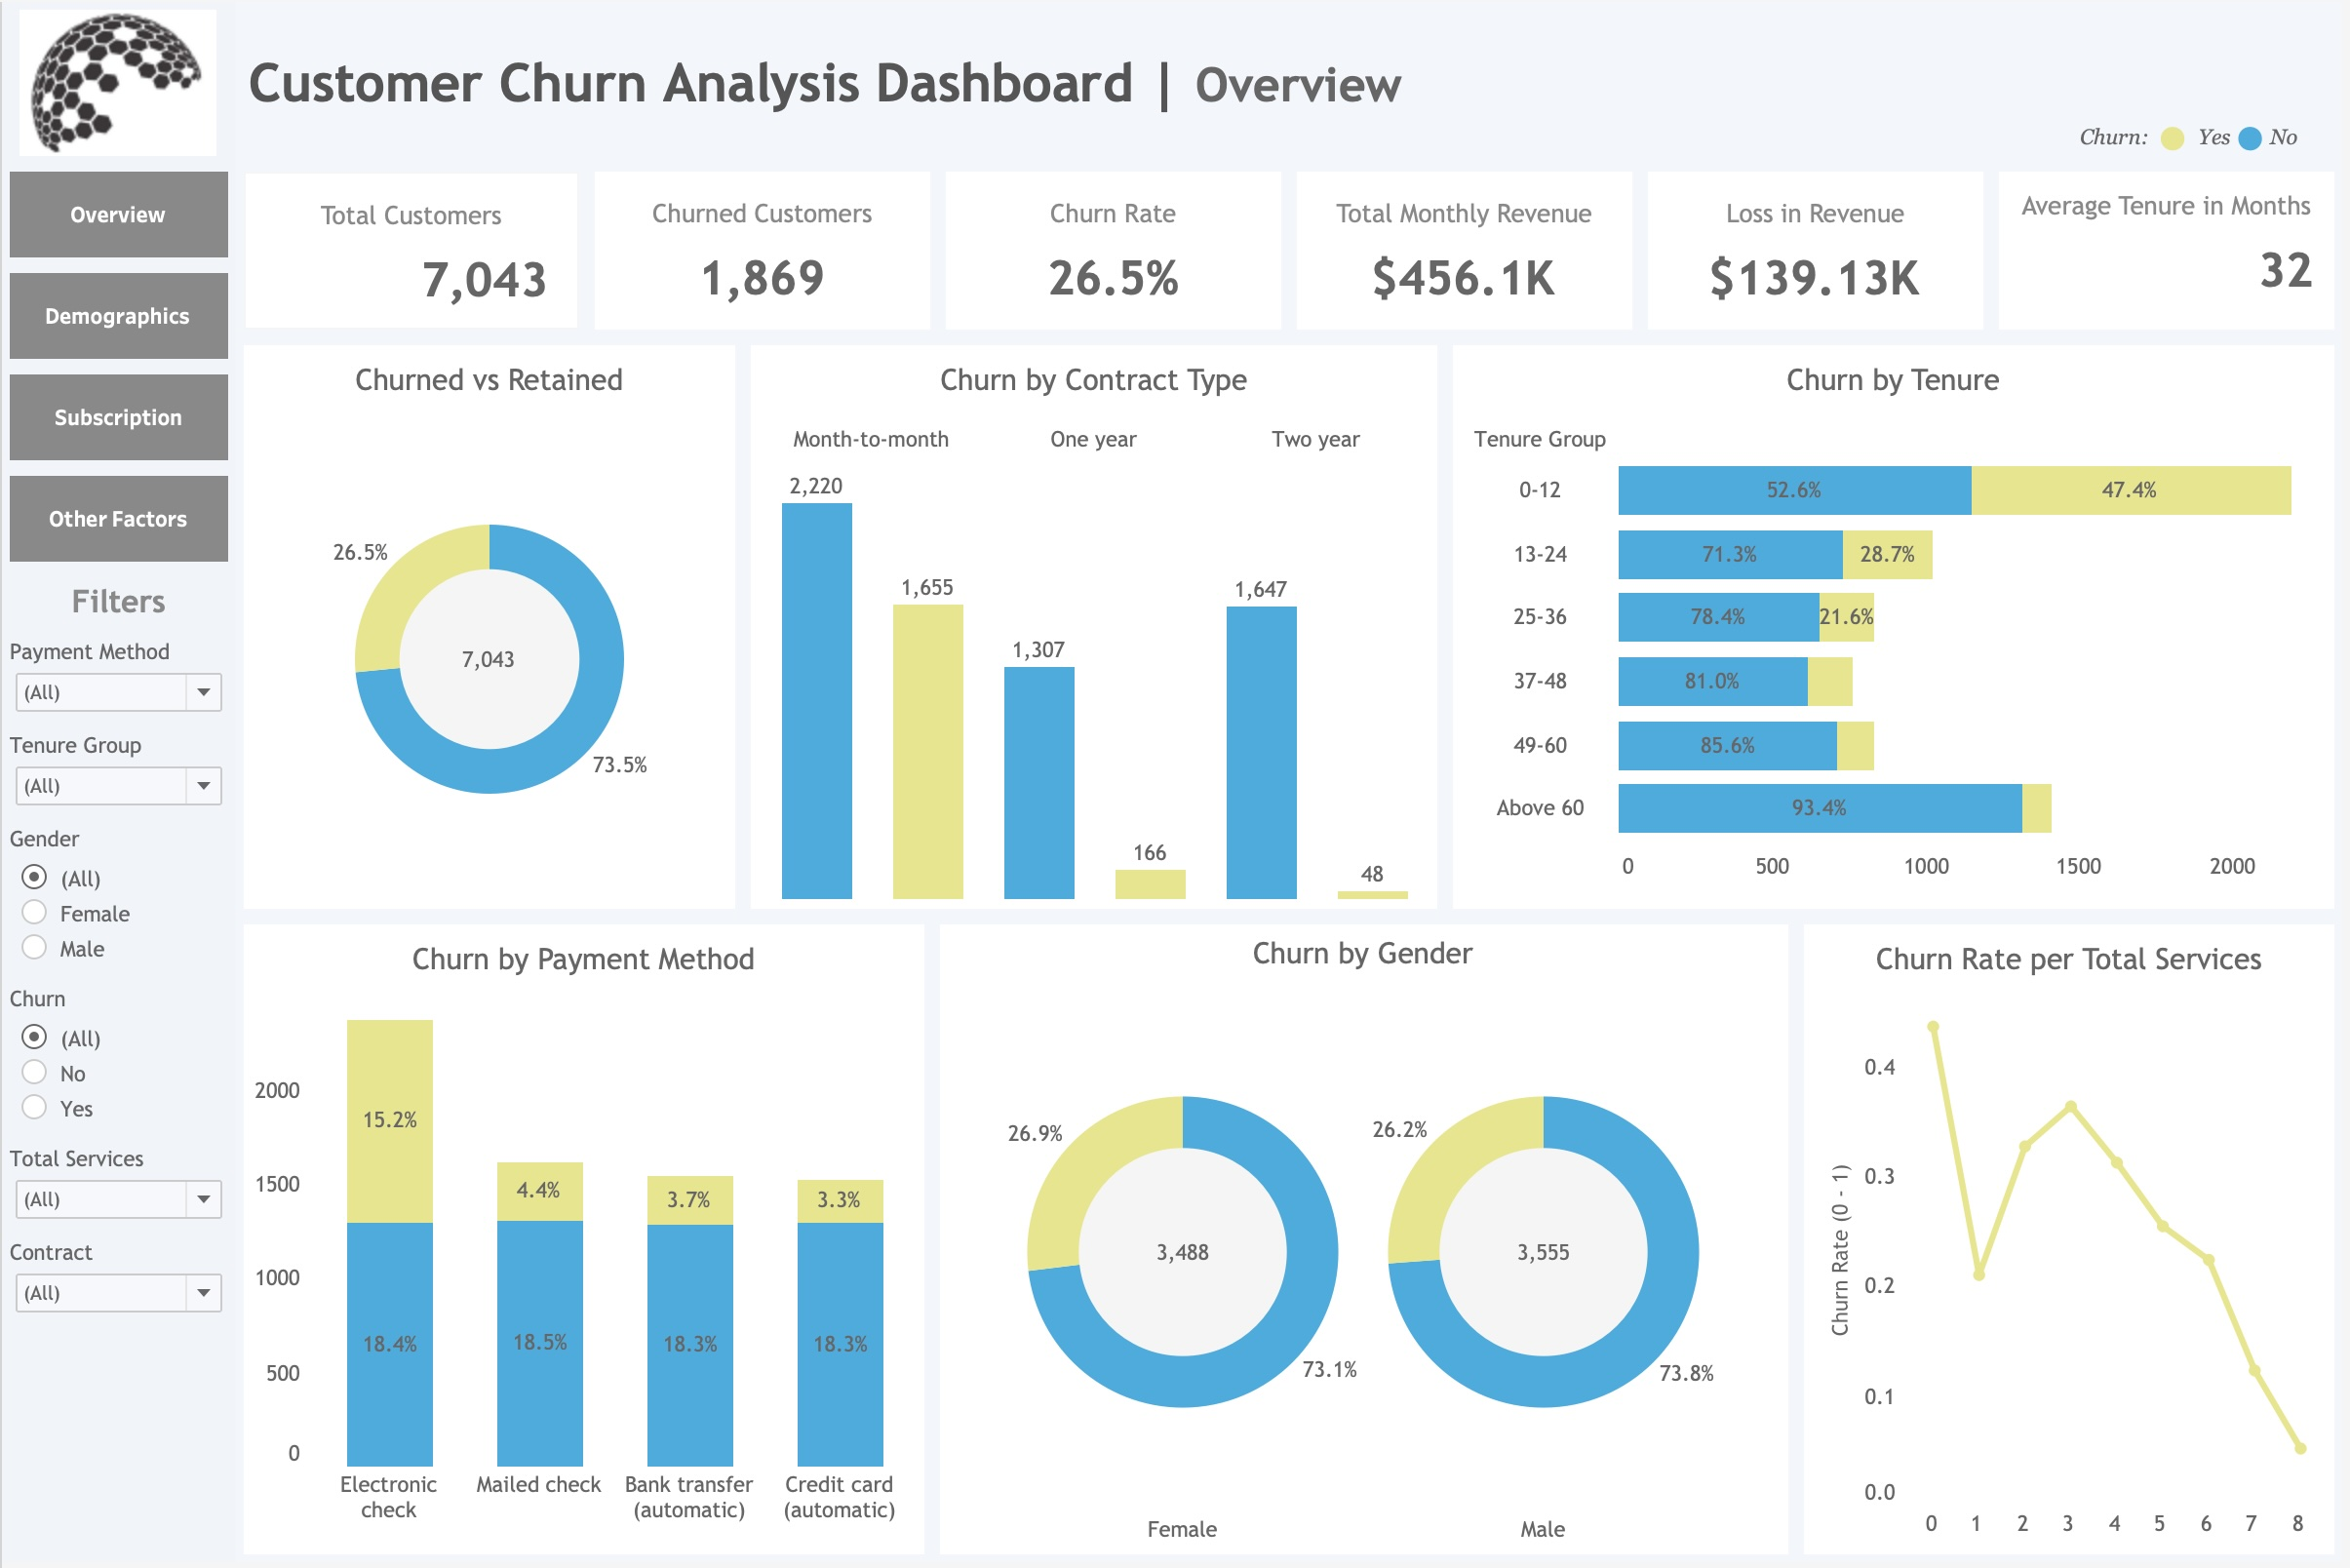

This screenshot's page, from the dashboard's own definition file:
{"tool":"tableau","page":{"name":"Overview Dashboard","canvas":[1200,800],"ordinal":2},"visuals":[{"type":"image","param":"Image/Screenshot 2025-07-18 at 7.56.09 PM.png","box":[0,0,120,83]},{"type":"text","box":[120,0,1080,83]},{"type":"text","box":[1063,54,130,30]},{"type":"dashboard-object","box":[0,83,120,52]},{"type":"worksheet","title":"Total Number of Customers","mark":"Automatic","box":[120,83,180,89]},{"type":"worksheet","title":"Churned Customers","mark":"Automatic","box":[300,83,180,89]},{"type":"worksheet","title":"Churn Rate","mark":"Automatic","box":[480,83,180,89]},{"type":"worksheet","title":"Total Monthly Revenue","mark":"Automatic","box":[660,83,180,89]},{"type":"worksheet","title":"Revenue Loss","mark":"Automatic","rows":["Calculation_2054767361532485633"],"box":[840,83,180,89]},{"type":"worksheet","title":"Average Tenure","mark":"Automatic","box":[1020,83,180,89]},{"type":"dashboard-object","box":[0,135,120,52]},{"type":"worksheet","title":"Churned vs Retained","mark":"Pie","cols":["Calculation_4873105934619631618","Calculation_4873105934619709444"],"box":[120,172,260,297]},{"type":"worksheet","title":"Churn by Contract Type","mark":"Automatic","rows":["customerID"],"cols":["Contract","Churn"],"box":[380,172,360,297]},{"type":"worksheet","title":"Churn by Tenure","mark":"Automatic","rows":["Calculation_2054767361529266176"],"cols":["customerID"],"box":[740,172,460,297]},{"type":"dashboard-object","box":[0,187,120,52]},{"type":"dashboard-object","box":[0,239,120,52]},{"type":"text","box":[0,291,120,32]},{"type":"filter","title":"Churn by Payment Method","param":"[federated.00i3pks088phsx120ps0f1dvn0i1].[none:PaymentMethod:nk]","box":[0,323,120,48]},{"type":"filter","title":"Churn by Tenure","param":"[federated.00i3pks088phsx120ps0f1dvn0i1].[none:Calculation_2054767361529266176:n","box":[0,371,120,48]},{"type":"filter","title":"Churned vs Retained","param":"[federated.00i3pks088phsx120ps0f1dvn0i1].[none:gender:nk]","box":[0,419,120,82]},{"type":"worksheet","title":"Churn by Payment Method","mark":"Automatic","rows":["customerID"],"cols":["PaymentMethod"],"box":[120,469,357,331]},{"type":"worksheet","title":"Churn by Gender","mark":"Pie","rows":["Calculation_4873105934619631618","Calculation_4873105934619709444"],"cols":["gender"],"box":[477,469,443,331]},{"type":"worksheet","title":"Churn Rate per Total Services","mark":"Line","rows":["Calculation_2054767361538183170"],"cols":["Calculation_1960473245427531779"],"box":[920,469,279.9,331]},{"type":"filter","title":"Churned vs Retained","param":"[federated.00i3pks088phsx120ps0f1dvn0i1].[none:Churn:nk]","box":[0,501,120,82]},{"type":"filter","title":"Churn Rate per Total Services","param":"[federated.00i3pks088phsx120ps0f1dvn0i1].[none:Calculation_1960473245427531779:o","box":[0,583,120,48]},{"type":"filter","title":"Churn by Contract Type","param":"[federated.00i3pks088phsx120ps0f1dvn0i1].[none:Contract:nk]","box":[0,631,120,48]}]}

Visuals, with their boxes in screenshot pixels (x1, y1, x2, y2), scaled from the page's 1200x800 canvas onto the 2350x1568 screenshot:
image: <box>0,0,235,163</box>
text: <box>235,0,2349,163</box>
text: <box>2082,106,2336,165</box>
dashboard-object: <box>0,163,235,264</box>
"Total Number of Customers" worksheet: <box>235,163,587,337</box>
"Churned Customers" worksheet: <box>587,163,940,337</box>
"Churn Rate" worksheet: <box>940,163,1293,337</box>
"Total Monthly Revenue" worksheet: <box>1293,163,1645,337</box>
"Revenue Loss" worksheet: <box>1645,163,1997,337</box>
"Average Tenure" worksheet: <box>1997,163,2349,337</box>
dashboard-object: <box>0,264,235,367</box>
"Churned vs Retained" worksheet (Pie marks): <box>235,337,744,920</box>
"Churn by Contract Type" worksheet: <box>744,337,1449,920</box>
"Churn by Tenure" worksheet: <box>1449,337,2349,920</box>
dashboard-object: <box>0,367,235,468</box>
dashboard-object: <box>0,468,235,570</box>
text: <box>0,570,235,633</box>
"Churn by Payment Method" filter: <box>0,633,235,727</box>
"Churn by Tenure" filter: <box>0,727,235,821</box>
"Churned vs Retained" filter: <box>0,821,235,982</box>
"Churn by Payment Method" worksheet: <box>235,920,934,1567</box>
"Churn by Gender" worksheet (Pie marks): <box>934,920,1802,1567</box>
"Churn Rate per Total Services" worksheet (Line marks): <box>1802,920,2349,1567</box>
"Churned vs Retained" filter: <box>0,982,235,1143</box>
"Churn Rate per Total Services" filter: <box>0,1143,235,1236</box>
"Churn by Contract Type" filter: <box>0,1236,235,1331</box>
